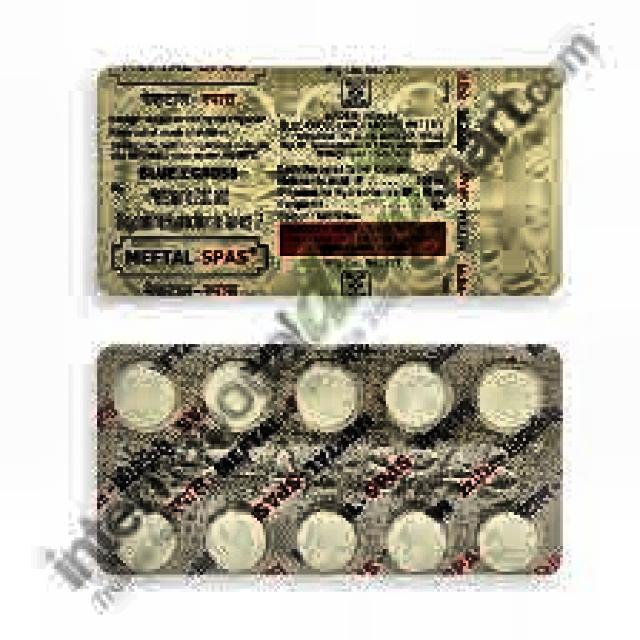Meftal: (106, 224, 277, 294)
